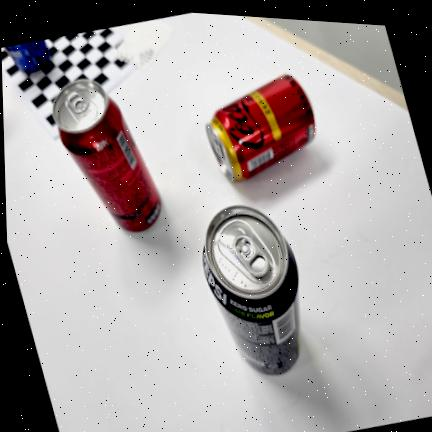can_coke_decaf: (206, 74, 315, 182)
can_coke_zero: (52, 79, 161, 231)
can_pepsi: (4, 40, 51, 73)
can_pepsi_zero: (202, 205, 299, 374)
